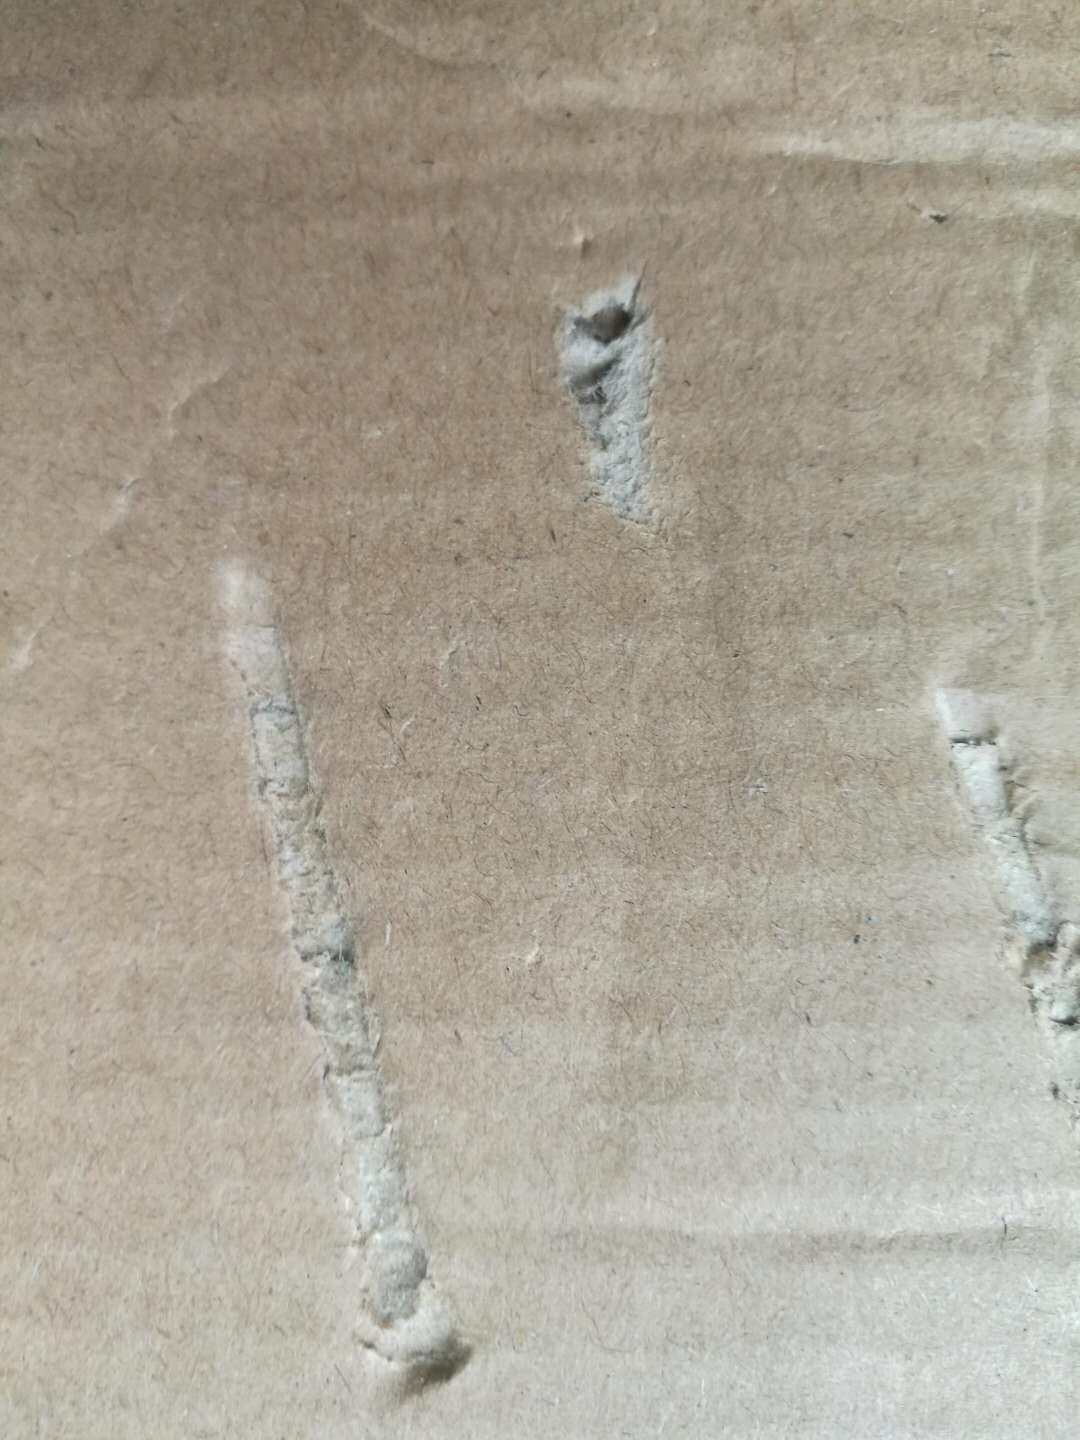defect: (129, 542, 528, 1418), (746, 98, 1080, 618), (894, 644, 1080, 1177), (526, 207, 714, 575)
